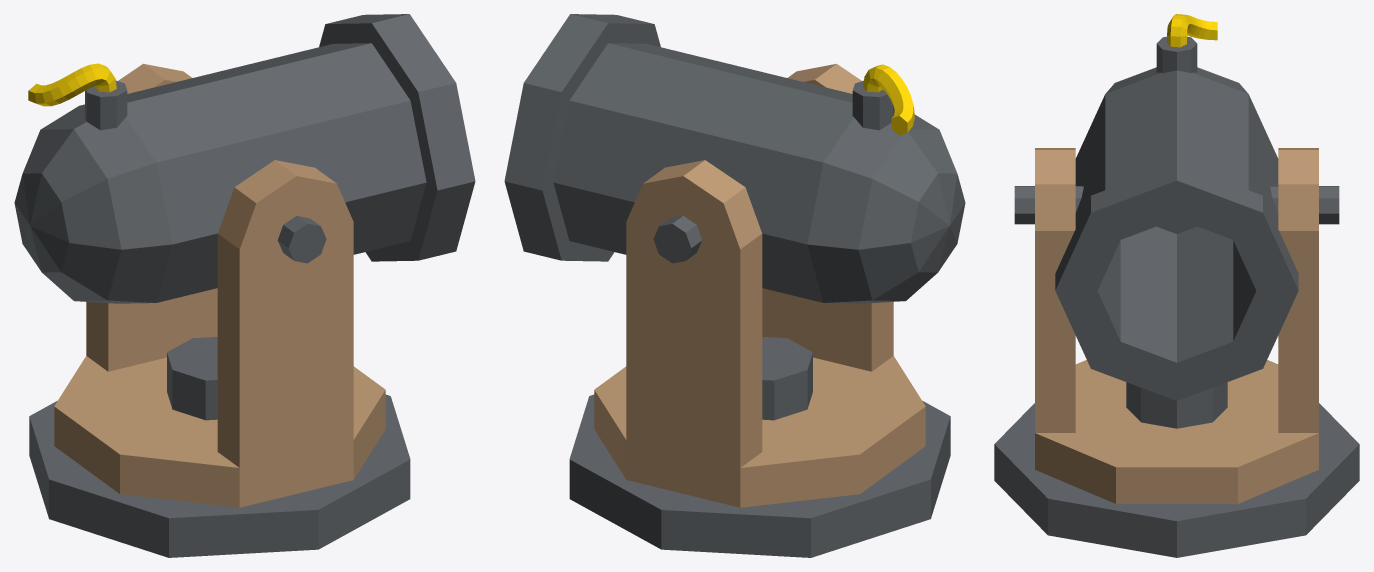
The model's file is cannon.glb.
3 renders of one model, left to right at view 1: azimuth 30°, elevation 25°; view 2: azimuth 150°, elevation 25°; view 3: azimuth 270°, elevation 25°, orthographic. The views are drawn at different scales.
Parts seen in each view (by area): view 1: Barrel, Arms, Cradle.001, Base.001, Rotation Point, Fuse, Handle, Fuse Hole; view 2: Barrel, Arms, Cradle.001, Base.001, Rotation Point, Fuse, Handle, Fuse Hole; view 3: Barrel, Cradle.001, Base.001, Arms, Rotation Point, Handle, Fuse Hole, Fuse.
Part boxes in pixels (x1=…): Barrel: x1=14, y1=14, x2=475, y2=303; Arms: x1=86, y1=63, x2=353, y2=467; Cradle.001: x1=54, y1=356, x2=385, y2=507; Base.001: x1=29, y1=394, x2=410, y2=557; Rotation Point: x1=167, y1=337, x2=217, y2=420; Fuse: x1=28, y1=63, x2=116, y2=106; Handle: x1=277, y1=216, x2=326, y2=263; Fuse Hole: x1=85, y1=80, x2=127, y2=130; Barrel: x1=504, y1=14, x2=965, y2=303; Arms: x1=626, y1=63, x2=893, y2=467; Cradle.001: x1=594, y1=356, x2=925, y2=507; Base.001: x1=569, y1=394, x2=950, y2=557; Rotation Point: x1=762, y1=337, x2=812, y2=420; Fuse: x1=863, y1=64, x2=914, y2=135; Handle: x1=653, y1=216, x2=702, y2=263; Fuse Hole: x1=852, y1=80, x2=894, y2=130; Barrel: x1=1055, y1=67, x2=1298, y2=400; Cradle.001: x1=1035, y1=360, x2=1318, y2=503; Base.001: x1=994, y1=403, x2=1359, y2=557; Arms: x1=1035, y1=148, x2=1318, y2=432; Rotation Point: x1=1126, y1=382, x2=1227, y2=428; Handle: x1=1014, y1=186, x2=1339, y2=224; Fuse Hole: x1=1156, y1=36, x2=1197, y2=72; Fuse: x1=1167, y1=14, x2=1217, y2=47.
Bounding box in the file's own units: 2 × 2.22 × 1.8.
